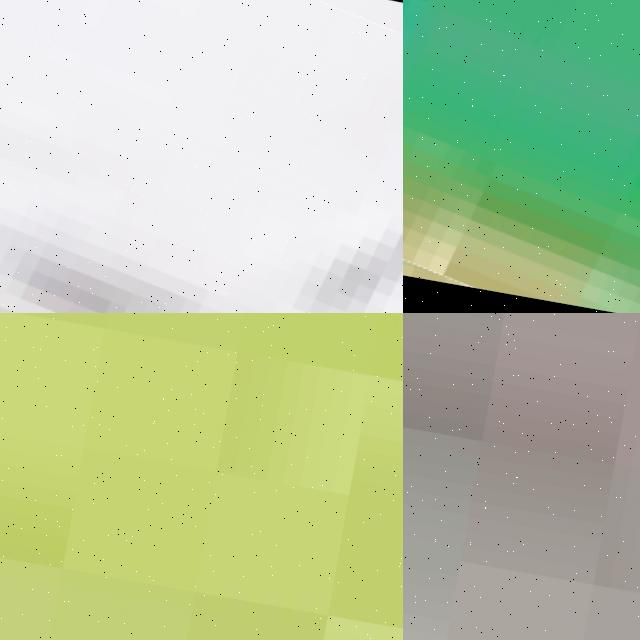0: (403, 0, 640, 313)
drone: (0, 0, 403, 313)
